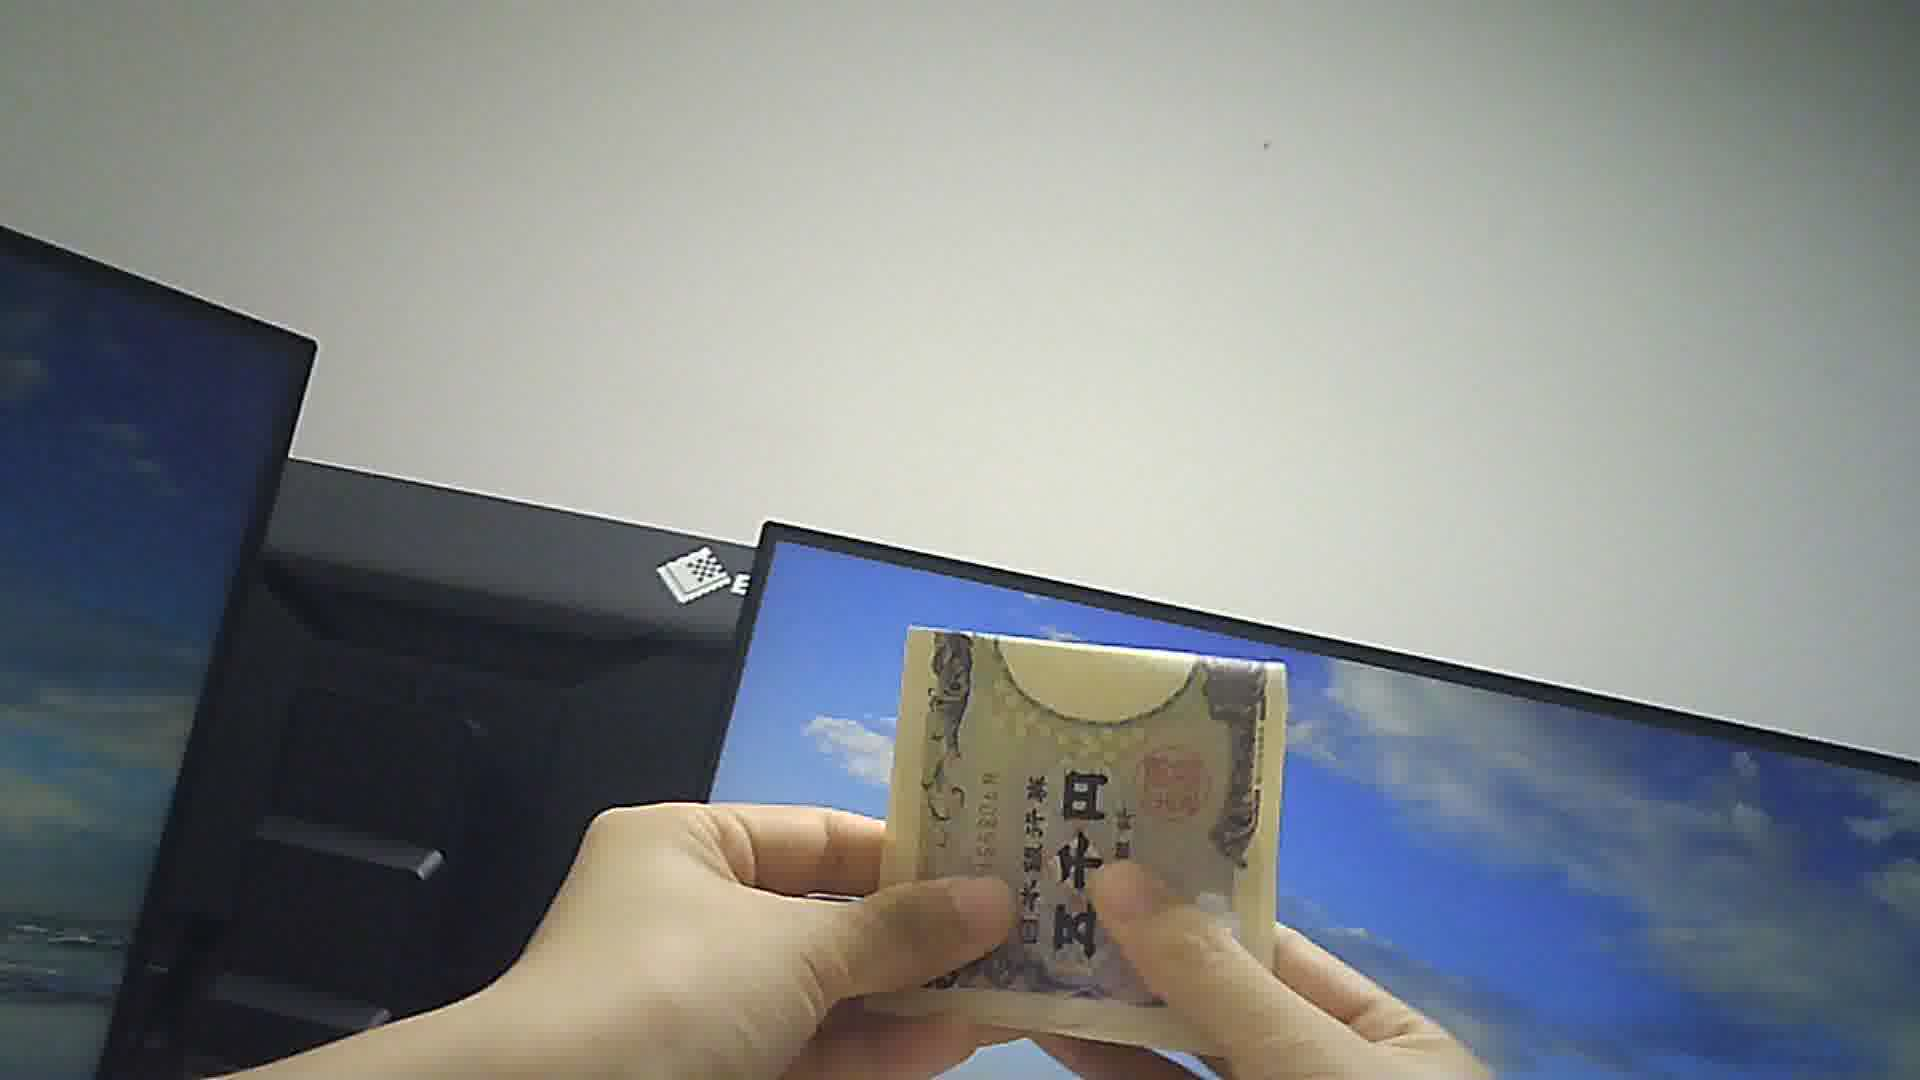5,000 Yen: (878, 611, 1305, 1052)
